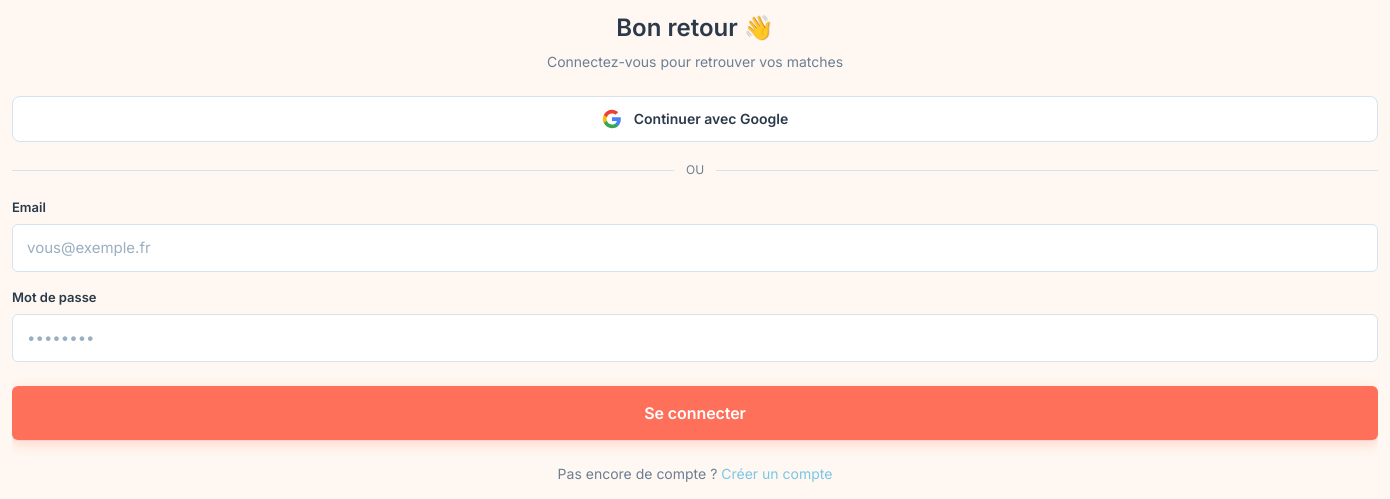
Test: LoginPage › does_not_call_signIn_twice_on_double_submit_while_loading
Type "alice@example.com" into the field labelled "Email".
click(695, 248); type("alice@example.com")  # box [12,224,1378,272]
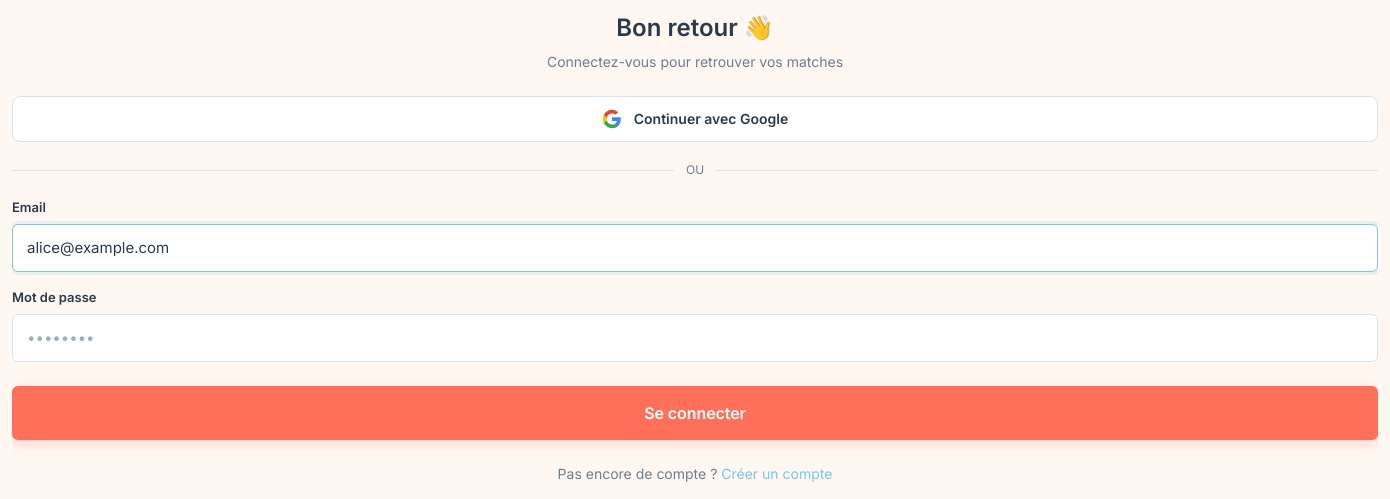
Type "s3cr3tP@ss" into the password field labelled "Mot de passe".
click(695, 338); type("s3cr3tP@ss")  # box [12,314,1378,362]
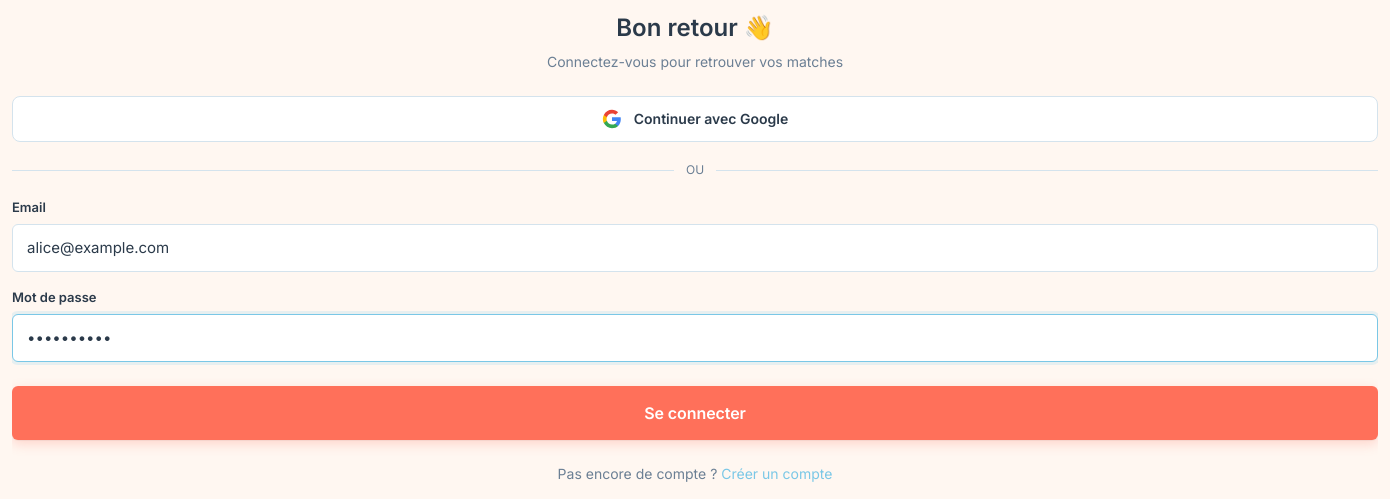
Click the button "Se connecter".
click(695, 413)  # box [12,386,1378,440]
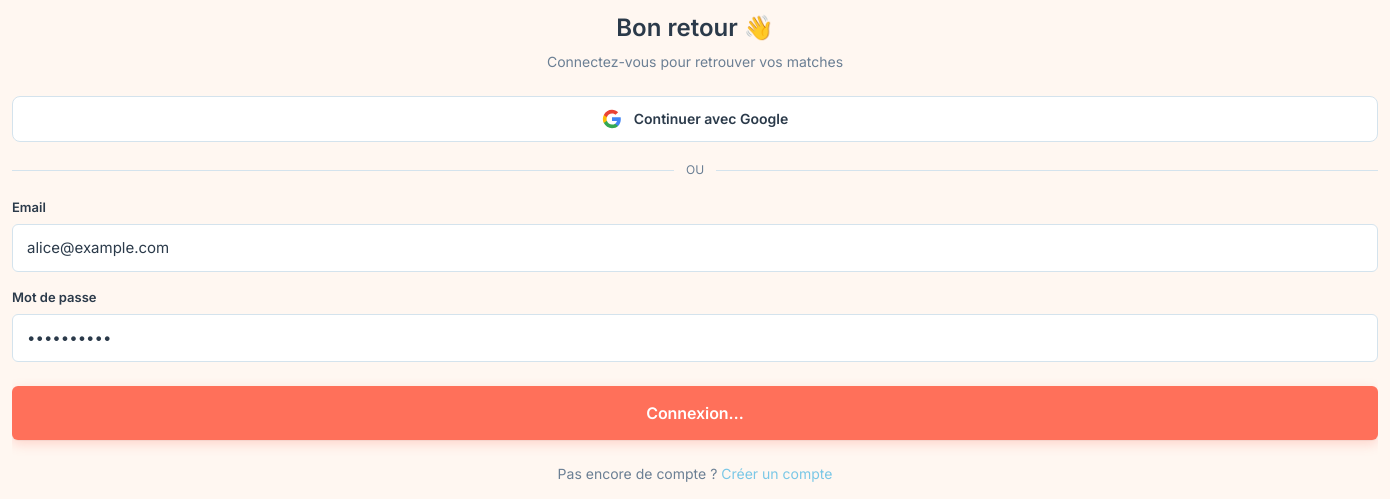
Expected: the button named "se connecter" is disabled, [12,386,1378,440]
